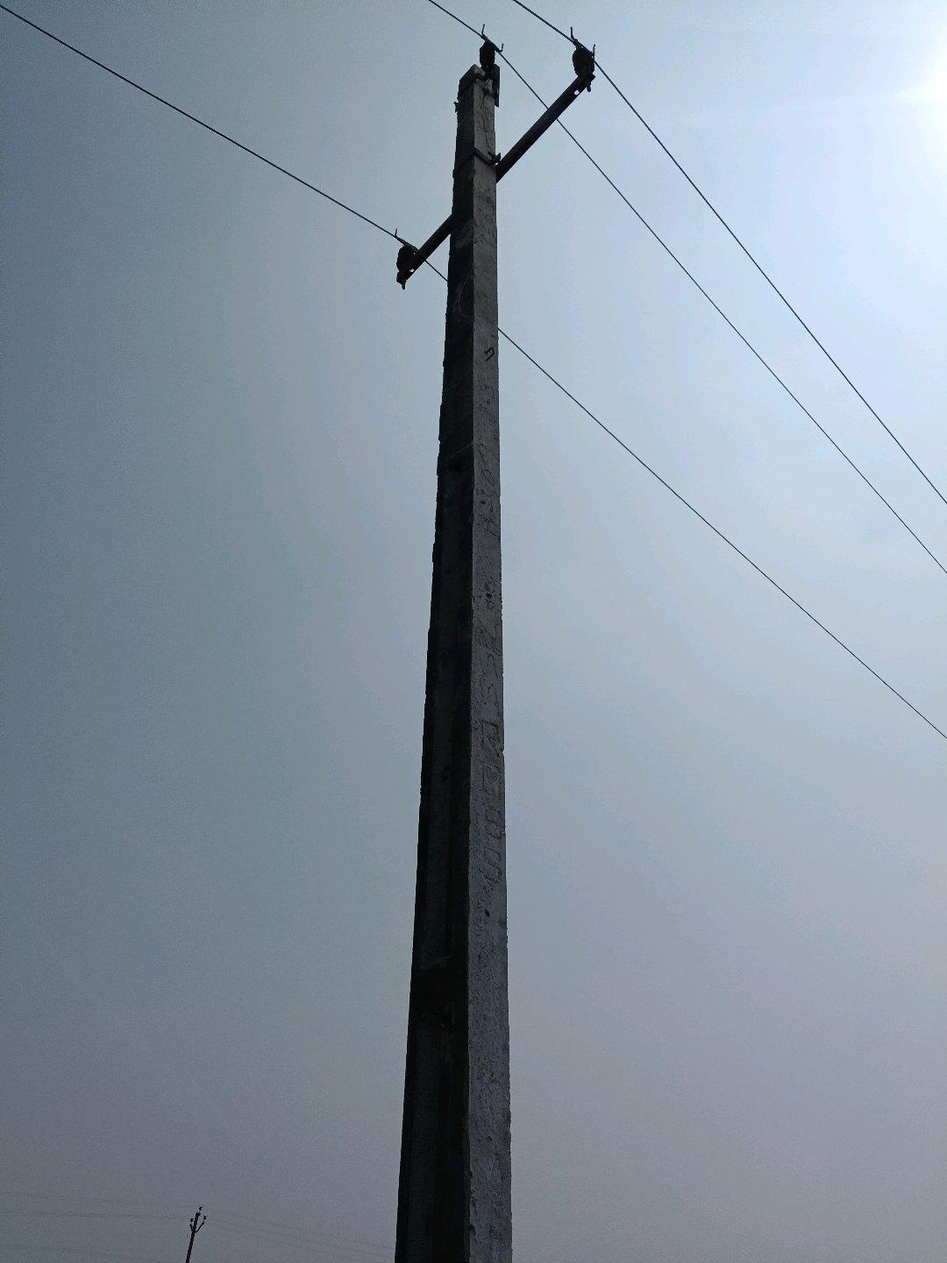{"0" "insulator", "1" "pole", "2" "crossarm", "3" "conductor", "4" "street_: (393, 39, 596, 1262), (291, 178, 355, 215), (365, 219, 373, 225), (485, 109, 487, 113), (478, 100, 480, 103), (481, 115, 483, 117), (360, 218, 362, 219), (478, 110, 480, 111)
